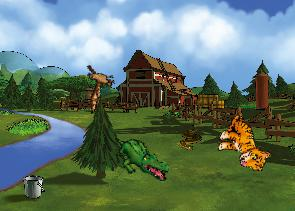crocodile: (108, 135, 174, 182)
eagle: (73, 57, 123, 114)
tiger: (211, 111, 279, 175)
